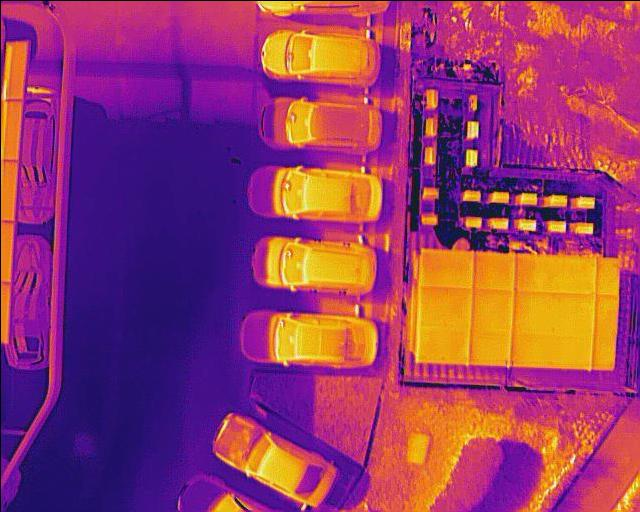Unclassified: (1, 39, 28, 98)
